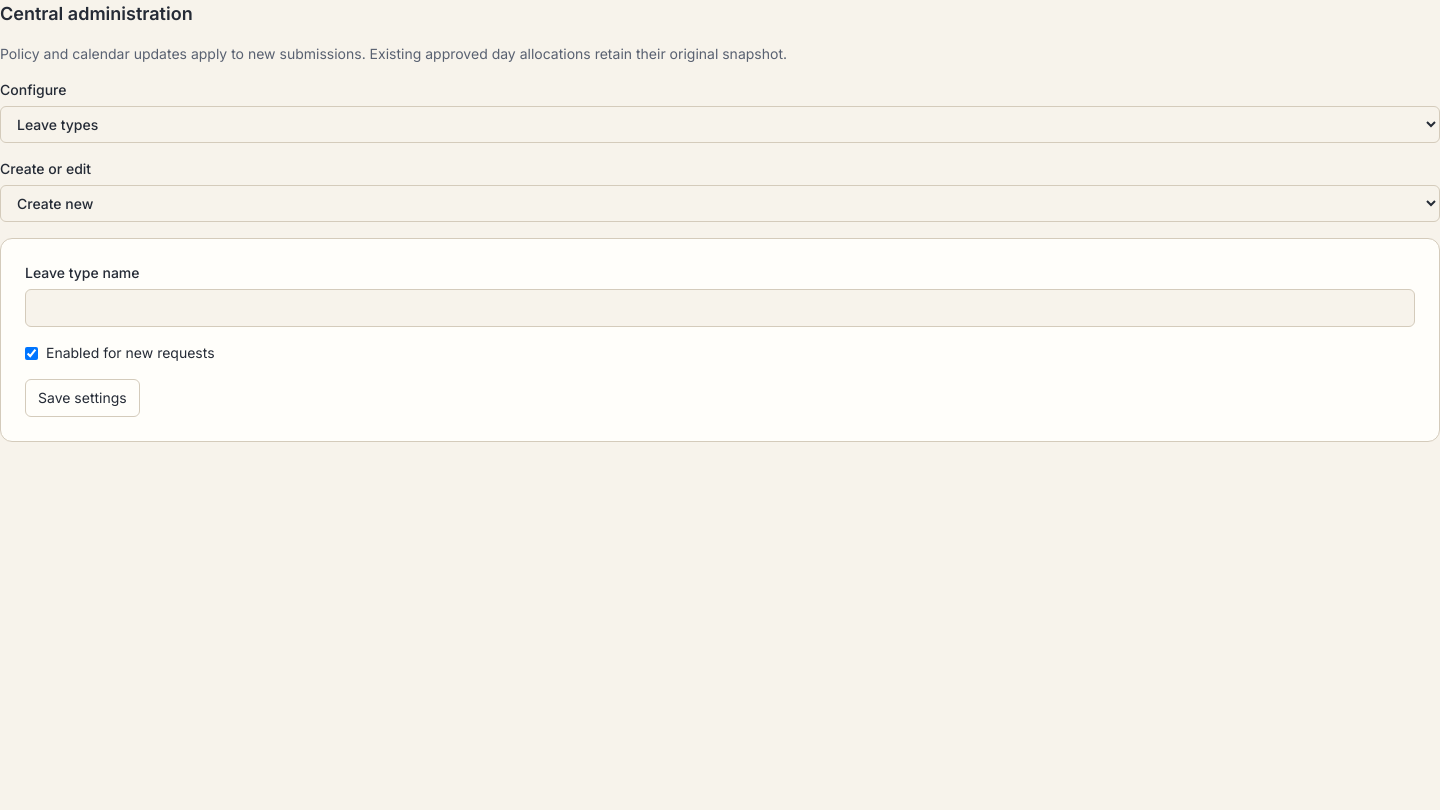
it: corrects an existing holiday using its stable identity and prefilled source metadata
This screenshot has width=1440, height=810.
Select "Company and reference holidays" in the dropdown labelled "Configure" at (720, 124), box [0,106,1439,143]
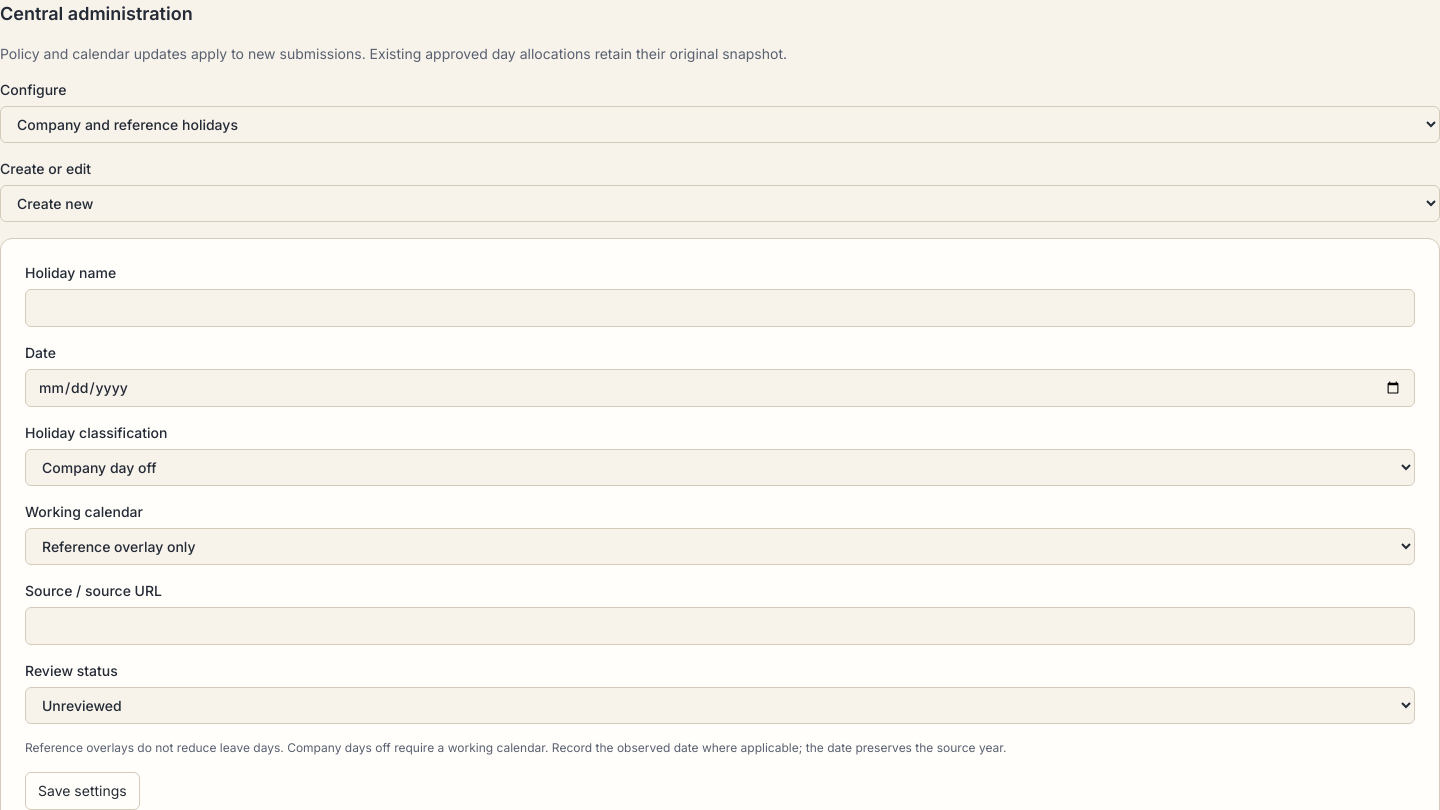
Select "Company holiday" in the dropdown labelled "Create or edit" at (720, 204), box [0,185,1439,222]
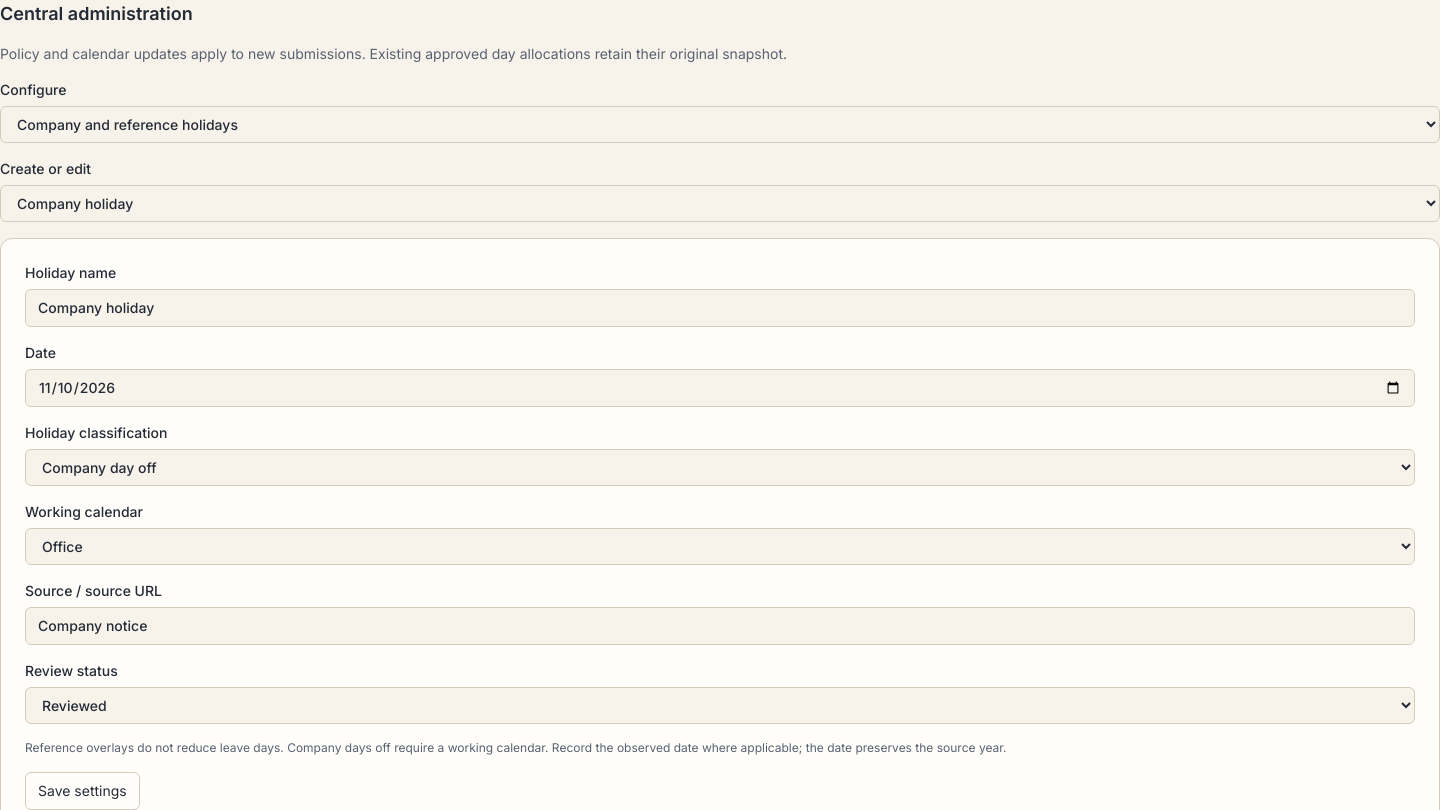
Result: the field labelled "Source / source URL" holds "Company notice" at [25,607,1415,645]
Type "2026-11-11" into the date field labelled "Date" at (720, 388), box [25,369,1415,407]
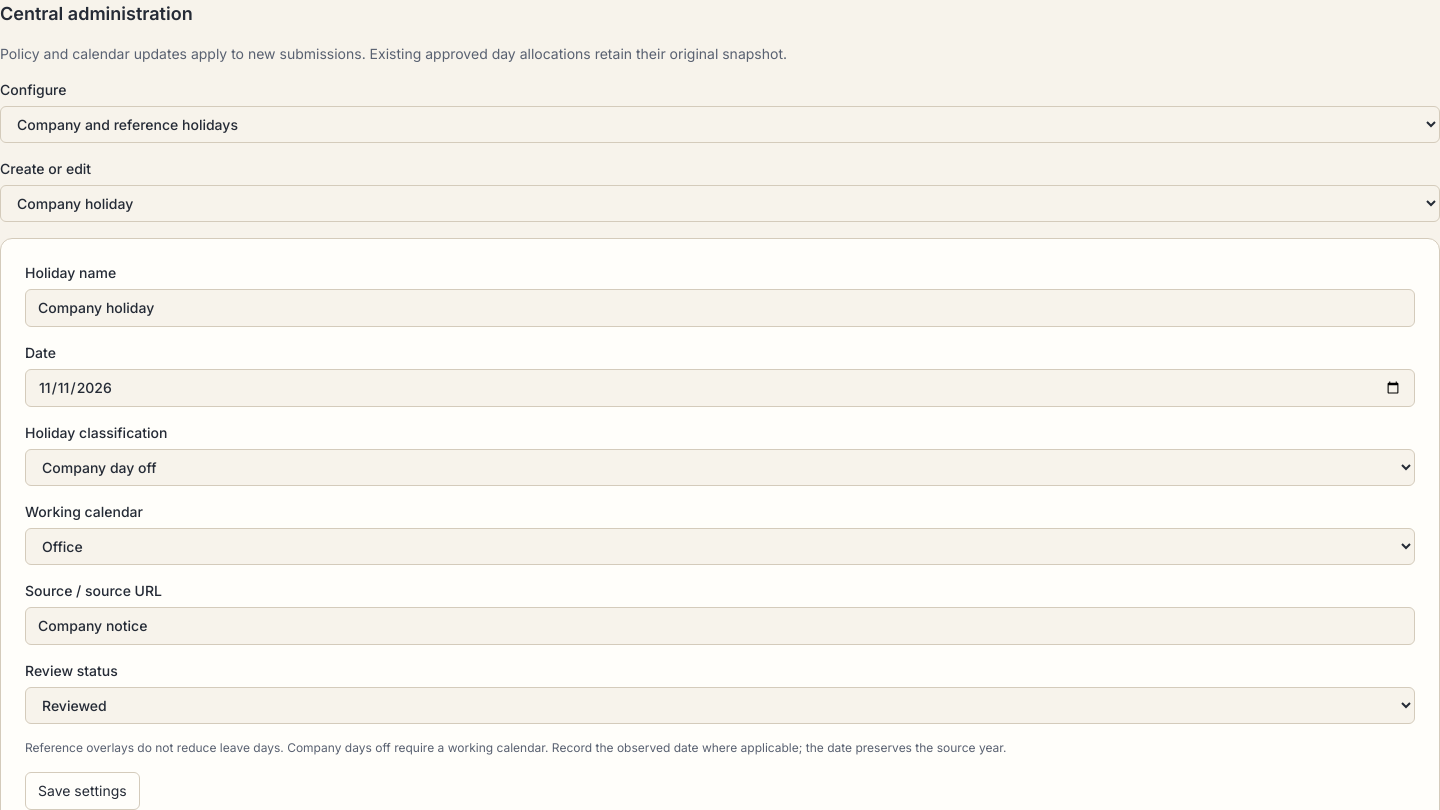
Click the button "Save settings" at (82, 791), box [25,772,140,809]
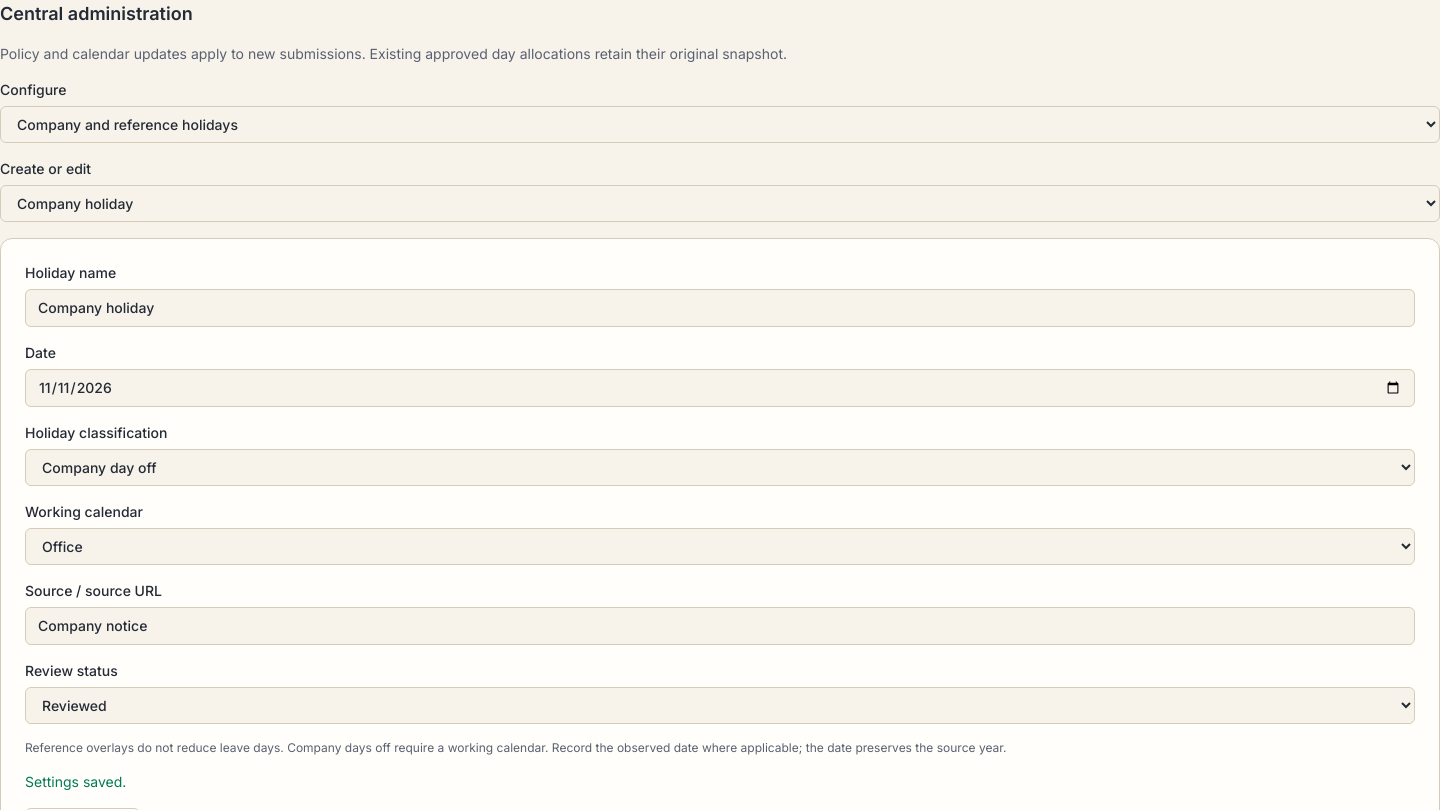
Result: the text "Settings saved." is shown at [25,773,126,790]
